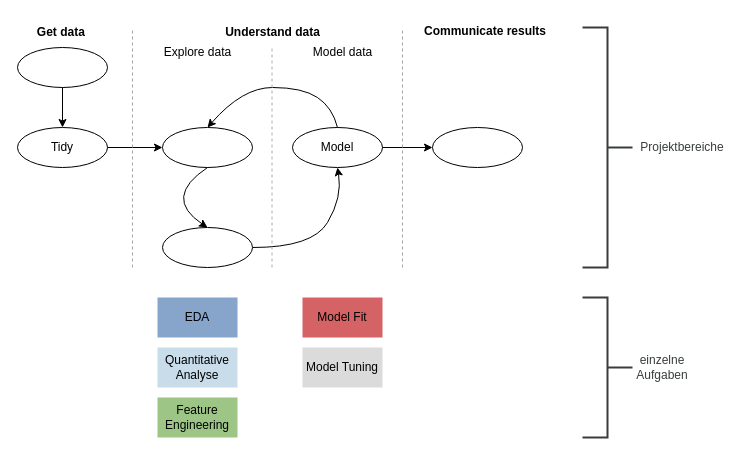
This 741x455 diagram has some shape labels left out. The shapes that lost their labels are listed below. From the top down, each one's box as (x1, y1, x2, y2) in pixels, then its label:
(16, 46, 108, 88): Import
(162, 126, 252, 168): Transform
(432, 126, 522, 168): Communicate
(162, 226, 252, 268): Visualise
